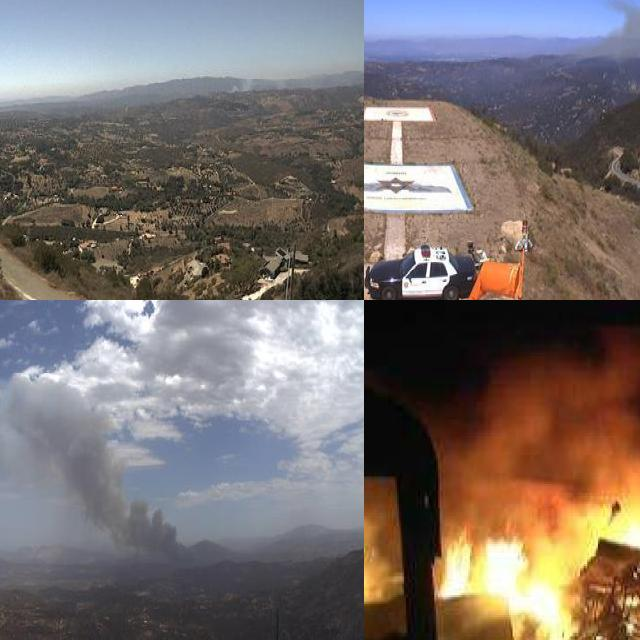fire: (441, 521, 572, 640), (599, 495, 640, 577)
smoke: (0, 367, 209, 579), (438, 335, 640, 513), (577, 0, 640, 88), (222, 66, 319, 95)
